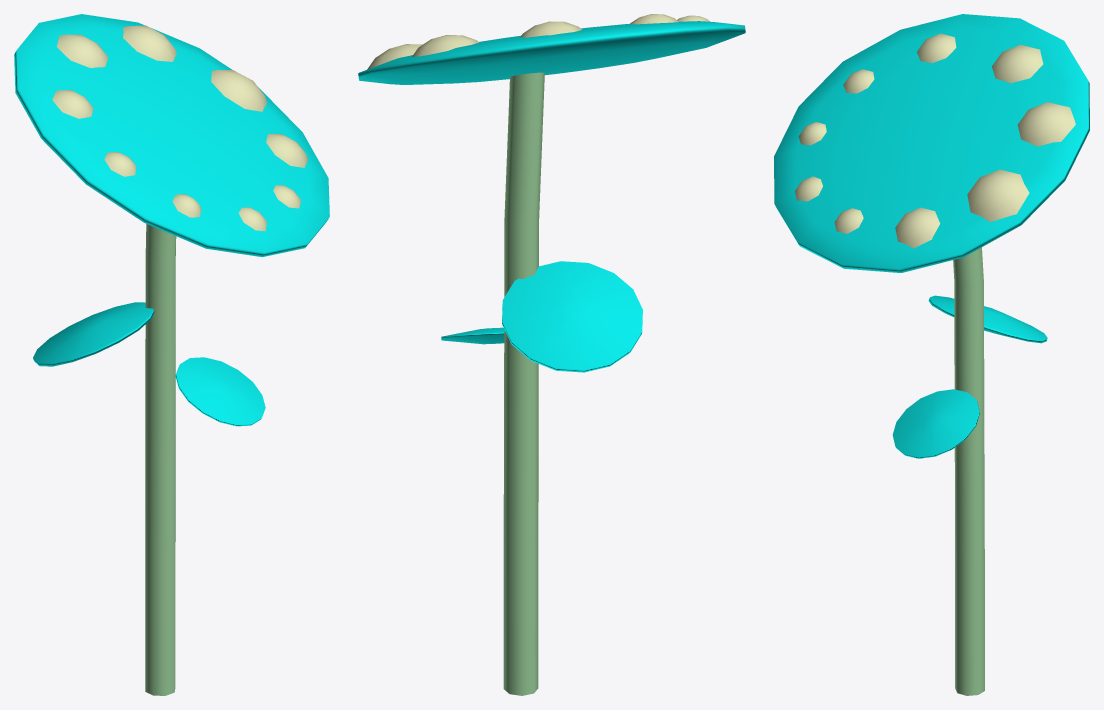
The model's file is Plant1.fbx.
3 renders of one model, left to right at view 1: azimuth 30°, elevation 25°; view 2: azimuth 150°, elevation 25°; view 3: azimuth 270°, elevation 25°, orthographic. The views are drawn at different scales.
Parts seen in each view (by area): view 1: plant2; view 2: plant2; view 3: plant2.
Boxes of the visible parts, left/top/right/bottom form: plant2: left=14, top=14, right=329, bottom=695; plant2: left=358, top=14, right=745, bottom=695; plant2: left=774, top=14, right=1089, bottom=695.
Size of the model in its own units: 1.32 by 2.79 by 1.29.
